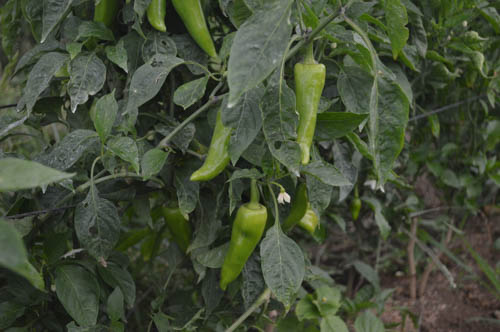ChiliPepper: (218, 206, 268, 285), (191, 106, 233, 186), (294, 65, 324, 164), (179, 1, 215, 54), (166, 208, 190, 247)
